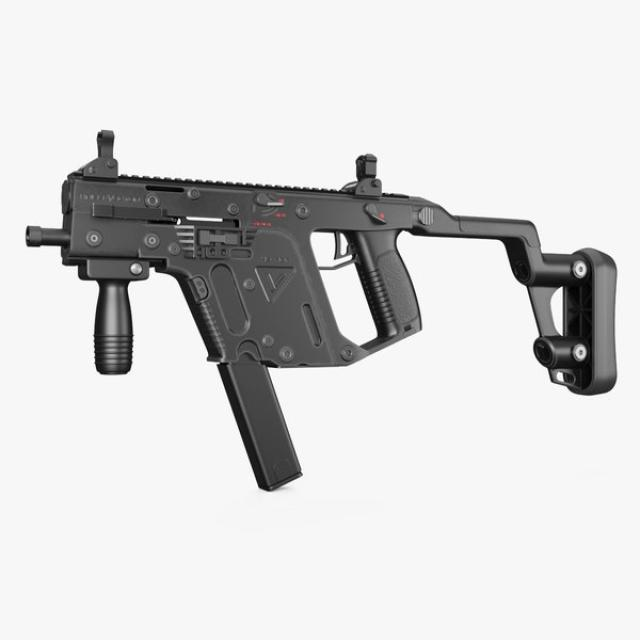SMG: (25, 132, 620, 493)
